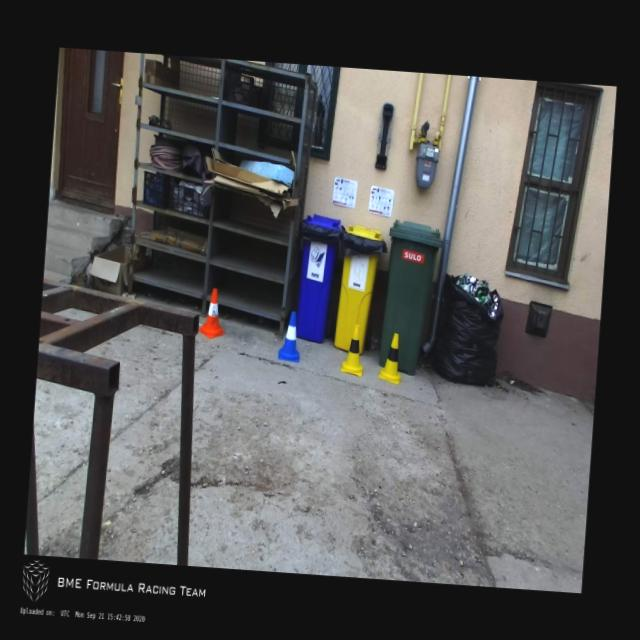blue_cone: (278, 311, 302, 362)
orange_cone: (197, 287, 228, 340)
yellow_cone: (376, 332, 404, 384), (340, 324, 366, 376)
